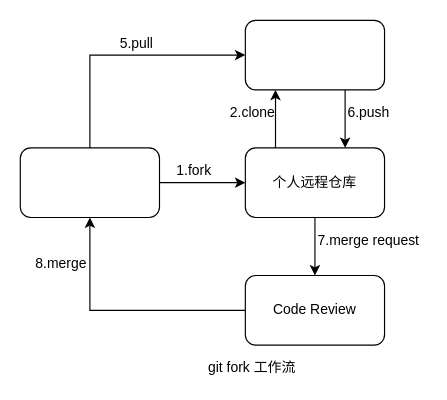
Some shapes in this 447 by 400 pixel diagram are drawn without their labels. Here are the shapes that lost their labels. From the top down, the centre of each, then its label:
the point at 314,54: 本地仓库 3.git add 4. git commit
the point at 89,182: 项目远程仓库
